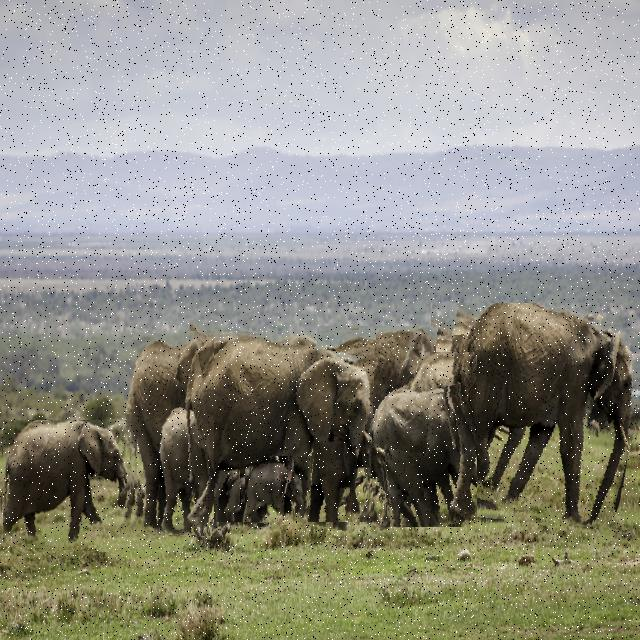elephant: (431, 303, 640, 531), (163, 329, 376, 522), (121, 333, 214, 533), (3, 420, 139, 553), (363, 389, 477, 527), (319, 326, 438, 453), (141, 411, 212, 536), (413, 352, 477, 451), (245, 456, 314, 527)
